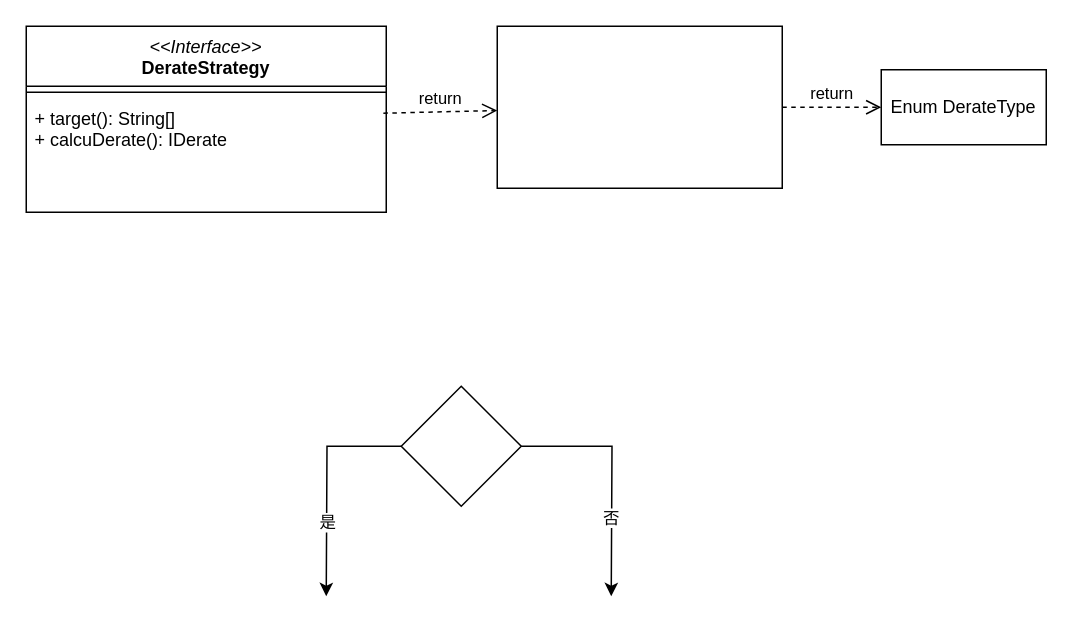
Image size: 1073x635. Some labels were removed from this diagram. Here are the shapes that lost their labels. From the top down, the centre of each, then its label:
(639,106): <<Interface>> IDerate + getDerateType(): DerateType + getDerateValue(): int
(460,445): 是否需 充电订单
